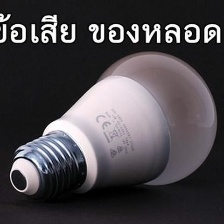light_bulb: (7, 48, 223, 204)
